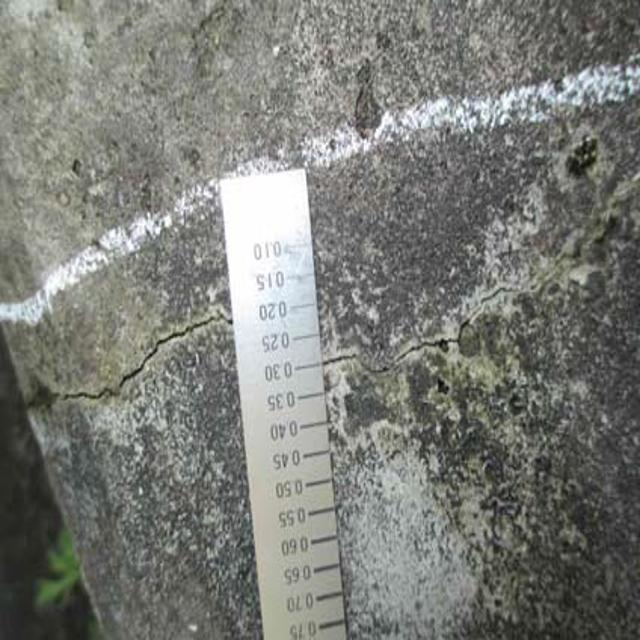crack: (330, 247, 627, 386), (23, 318, 231, 438)
